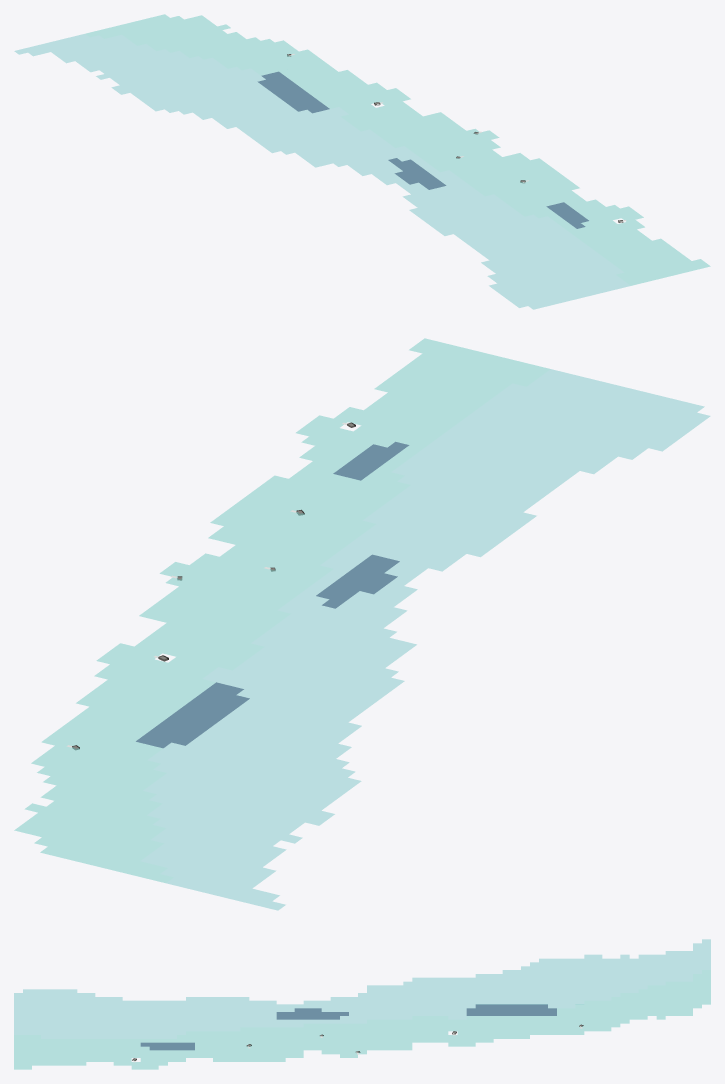
The model's file is nw_sw_arashi.glb.
The picture shows the model from 3 angles, top to bottom: view 1: azimuth 30°, elevation 25°; view 2: azimuth 150°, elevation 25°; view 3: azimuth 270°, elevation 25°; orthographic projection. The views are drawn at different scales.
Parts seen in each view (by area): view 1: nw_sw_arashi_lod0; view 2: nw_sw_arashi_lod0; view 3: nw_sw_arashi_lod0.
Boxes of the visible parts, left/top/right/bottom form: nw_sw_arashi_lod0: left=14, top=14, right=710, bottom=309; nw_sw_arashi_lod0: left=14, top=338, right=709, bottom=910; nw_sw_arashi_lod0: left=14, top=939, right=710, bottom=1069.
Size of what is drawn, in the model's own units: 102 by 0.42 by 231.
